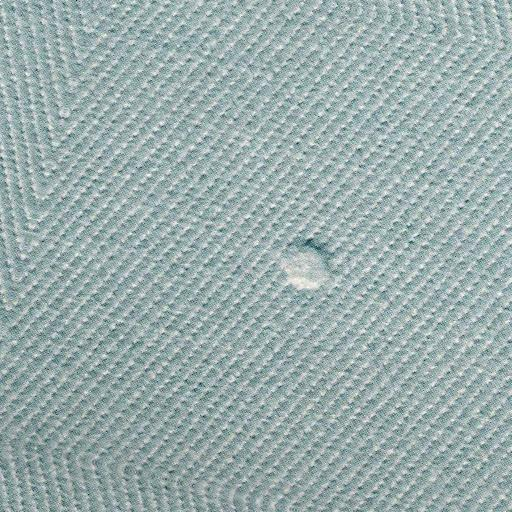knot: (272, 232, 345, 298)
